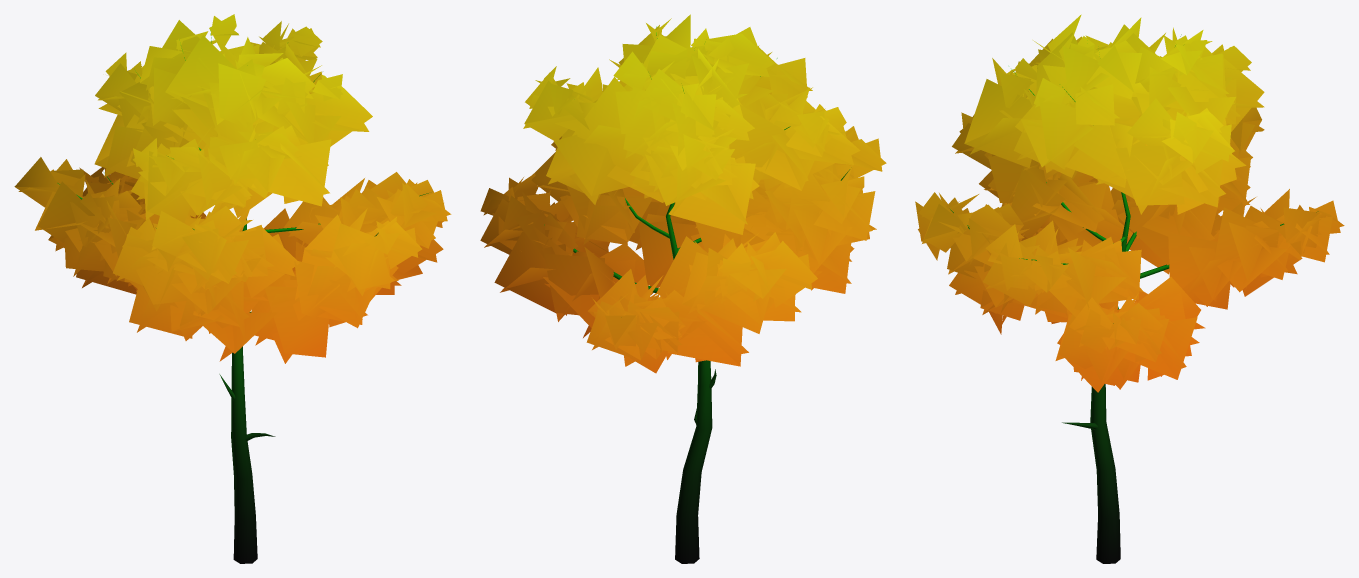
The model's file is medium_birch.obj.
3 views of the same model, side by side, from view 1: azimuth 30°, elevation 25°; view 2: azimuth 150°, elevation 25°; view 3: azimuth 270°, elevation 25° (orthographic). The views are drawn at different scales.
Parts seen in each view (by area): view 1: MediumBirch; view 2: MediumBirch; view 3: MediumBirch.
Boxes of the visible parts, bbox=[...] form: MediumBirch: bbox=[14, 14, 451, 563]; MediumBirch: bbox=[480, 14, 886, 563]; MediumBirch: bbox=[915, 14, 1344, 563].
Bounding box in the file's own units: 20.02 × 27.59 × 20.3.
